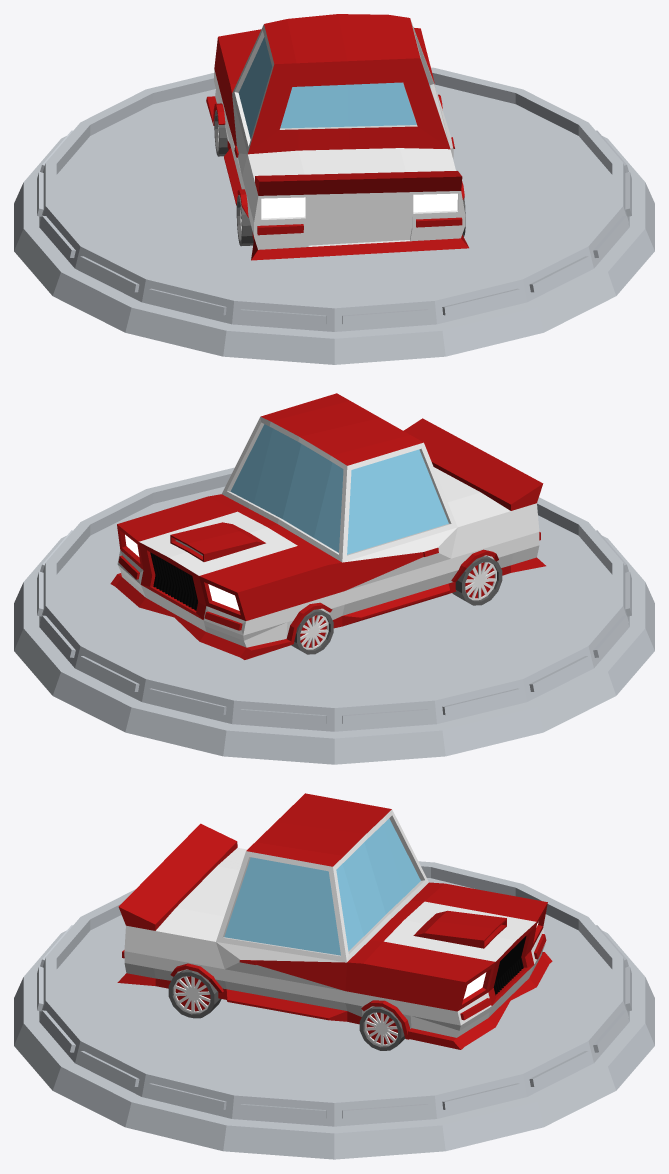
The model's file is f1pie.glb.
The picture shows the model from 3 angles, top to bottom: view 1: azimuth 30°, elevation 25°; view 2: azimuth 150°, elevation 25°; view 3: azimuth 270°, elevation 25°; orthographic projection.
Visible parts, largest first — view 1: platform, body, backlight, wheel_1; view 2: platform, body, wheel_1, lattice_1, wheel1_1, headlight; view 3: platform, body, wheel_1, wheel1_1, lattice_1.
Part boxes in pixels (x1,y1,x2,y2): platform: (14, 67, 654, 364); body: (206, 14, 468, 260); backlight: (261, 193, 457, 218); wheel_1: (236, 195, 465, 246); platform: (14, 467, 654, 764); body: (110, 393, 545, 659); wheel_1: (452, 556, 502, 605); lattice_1: (150, 552, 197, 610); wheel1_1: (291, 609, 333, 654); headlight: (125, 534, 239, 610); platform: (14, 861, 654, 1159); body: (117, 793, 552, 1049); wheel_1: (168, 970, 221, 1018); wheel1_1: (359, 1006, 405, 1050); lattice_1: (493, 936, 526, 995).
Bounding box in the file's own units: 3.12 × 1.04 × 3.07.
